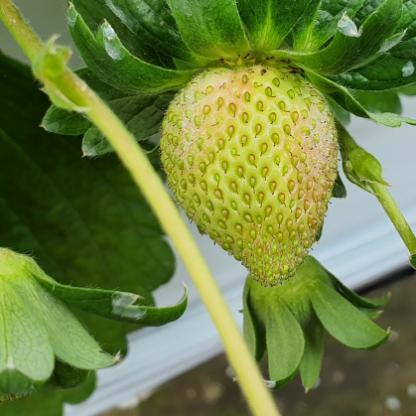Strawberry_Powdery_Mildew_Fruit: (158, 59, 339, 287)
